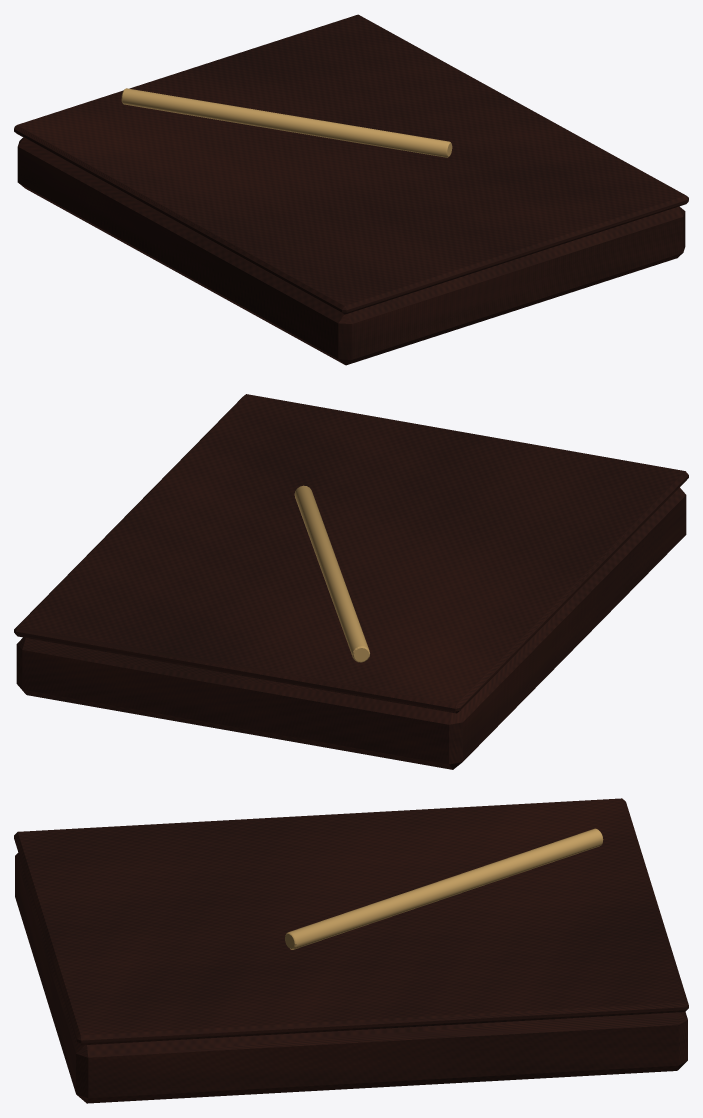
The model's file is notebook.glb.
The picture shows the model from 3 angles, top to bottom: view 1: azimuth 30°, elevation 25°; view 2: azimuth 150°, elevation 25°; view 3: azimuth 270°, elevation 25°; orthographic projection. The views are drawn at different scales.
Visible parts, largest first — view 1: part::notebook/notebook-top-cover-001, part::notebook/leather-bound-notebook-001, part::notebook/fountain-pen-001; view 2: part::notebook/notebook-top-cover-001, part::notebook/leather-bound-notebook-001, part::notebook/fountain-pen-001; view 3: part::notebook/notebook-top-cover-001, part::notebook/leather-bound-notebook-001, part::notebook/fountain-pen-001.
Boxes of the visible parts, x1,y1,x2,y2 form: part::notebook/notebook-top-cover-001: (14, 14, 688, 314); part::notebook/leather-bound-notebook-001: (17, 137, 685, 365); part::notebook/fountain-pen-001: (121, 88, 452, 157); part::notebook/notebook-top-cover-001: (14, 394, 688, 713); part::notebook/leather-bound-notebook-001: (16, 487, 686, 769); part::notebook/fountain-pen-001: (294, 485, 369, 662); part::notebook/notebook-top-cover-001: (14, 798, 688, 1045); part::notebook/leather-bound-notebook-001: (15, 853, 687, 1103); part::notebook/fountain-pen-001: (285, 828, 603, 949).
Size of the model in its own units: 0.3685 by 0.0675 by 0.4375.
3 materials, 1 textured.
